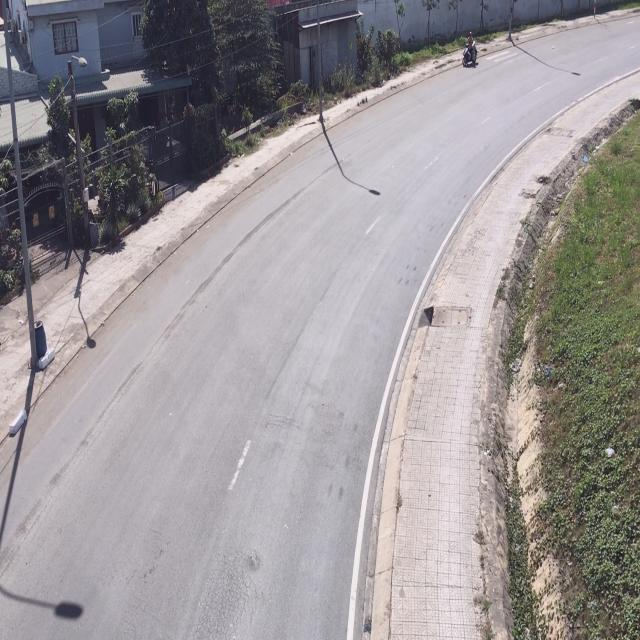motorbike: (462, 31, 479, 72)
